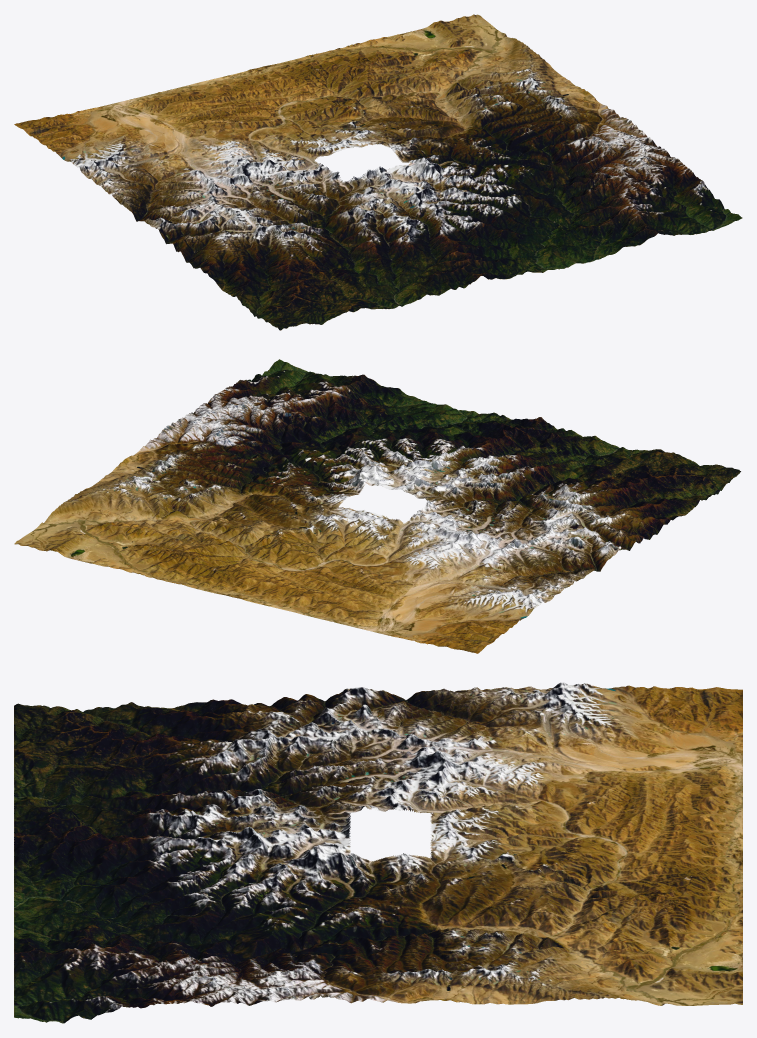
File: khumbu_wide_webp.glb
3 renders of one model, top to bottom at view 1: azimuth 30°, elevation 25°; view 2: azimuth 150°, elevation 25°; view 3: azimuth 270°, elevation 25°, orthographic. The views are drawn at different scales.
Parts seen in each view (by area): view 1: world; view 2: world; view 3: world.
Boxes of the visible parts, x1=… form: world: x1=14, y1=14, x2=742, y2=330; world: x1=14, y1=359, x2=740, y2=653; world: x1=14, y1=682, x2=742, y2=1023.
Bounding box in the file's own units: 117956 × 7859 × 116886.
Materials: 1 (1 with a texture image).
